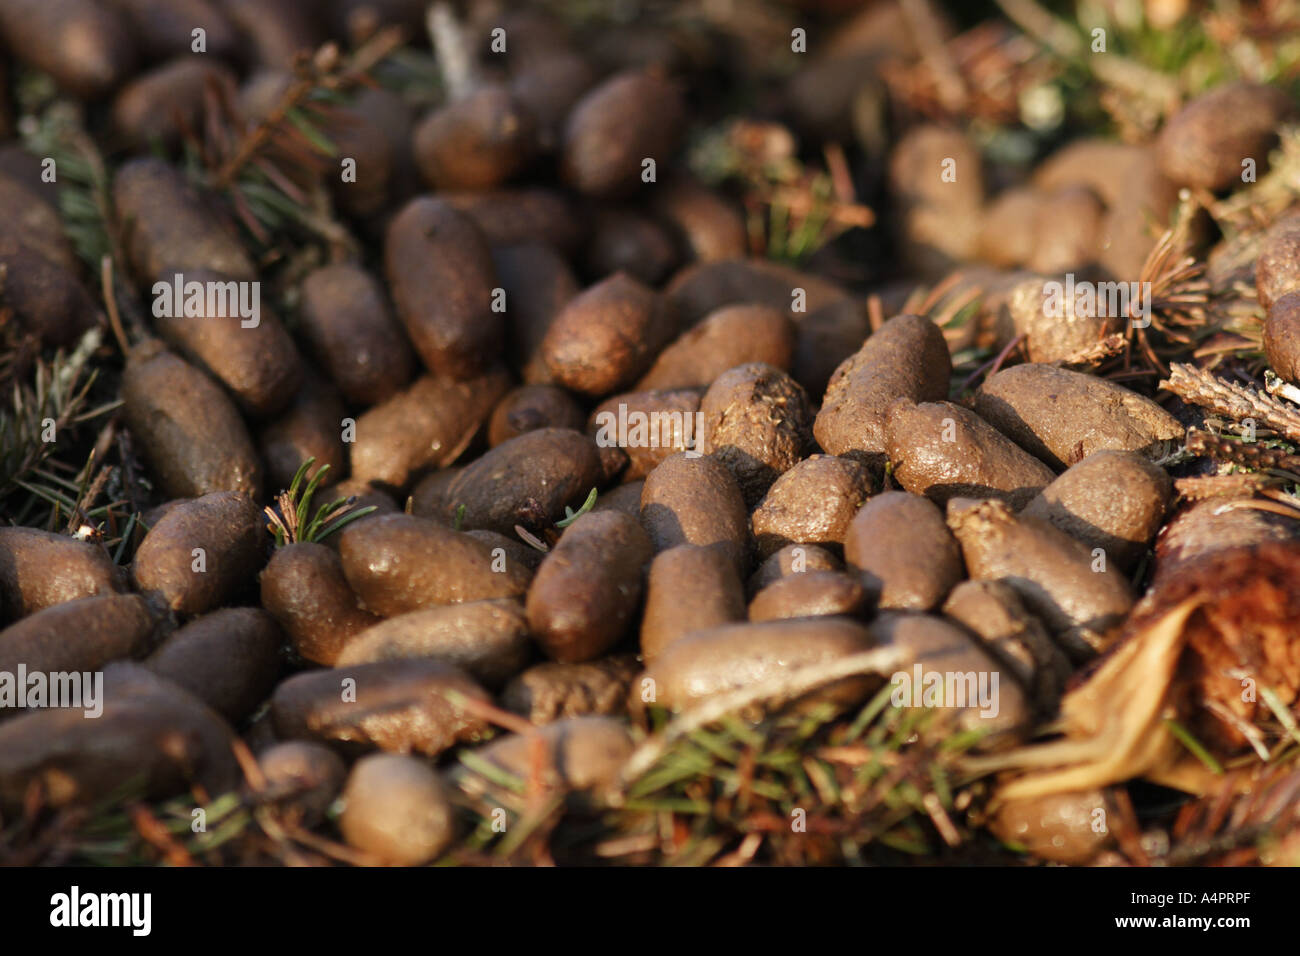Elk: (131, 151, 1083, 726)
